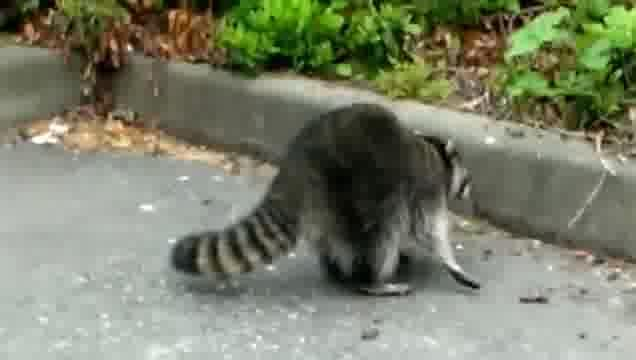raccoon: (172, 98, 483, 297)
